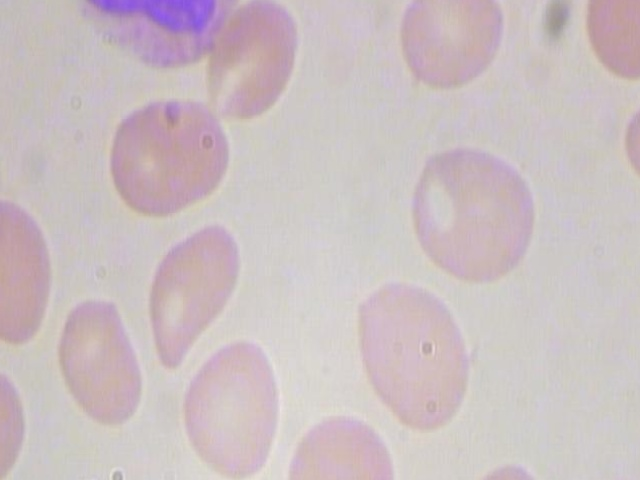RBC: (397, 135, 551, 284), (351, 271, 486, 437), (97, 93, 238, 219), (143, 218, 251, 375), (182, 332, 290, 480), (48, 282, 149, 437), (202, 0, 301, 126), (394, 0, 507, 91), (283, 409, 397, 480), (450, 456, 561, 480)
WBC: (21, 0, 264, 69)
